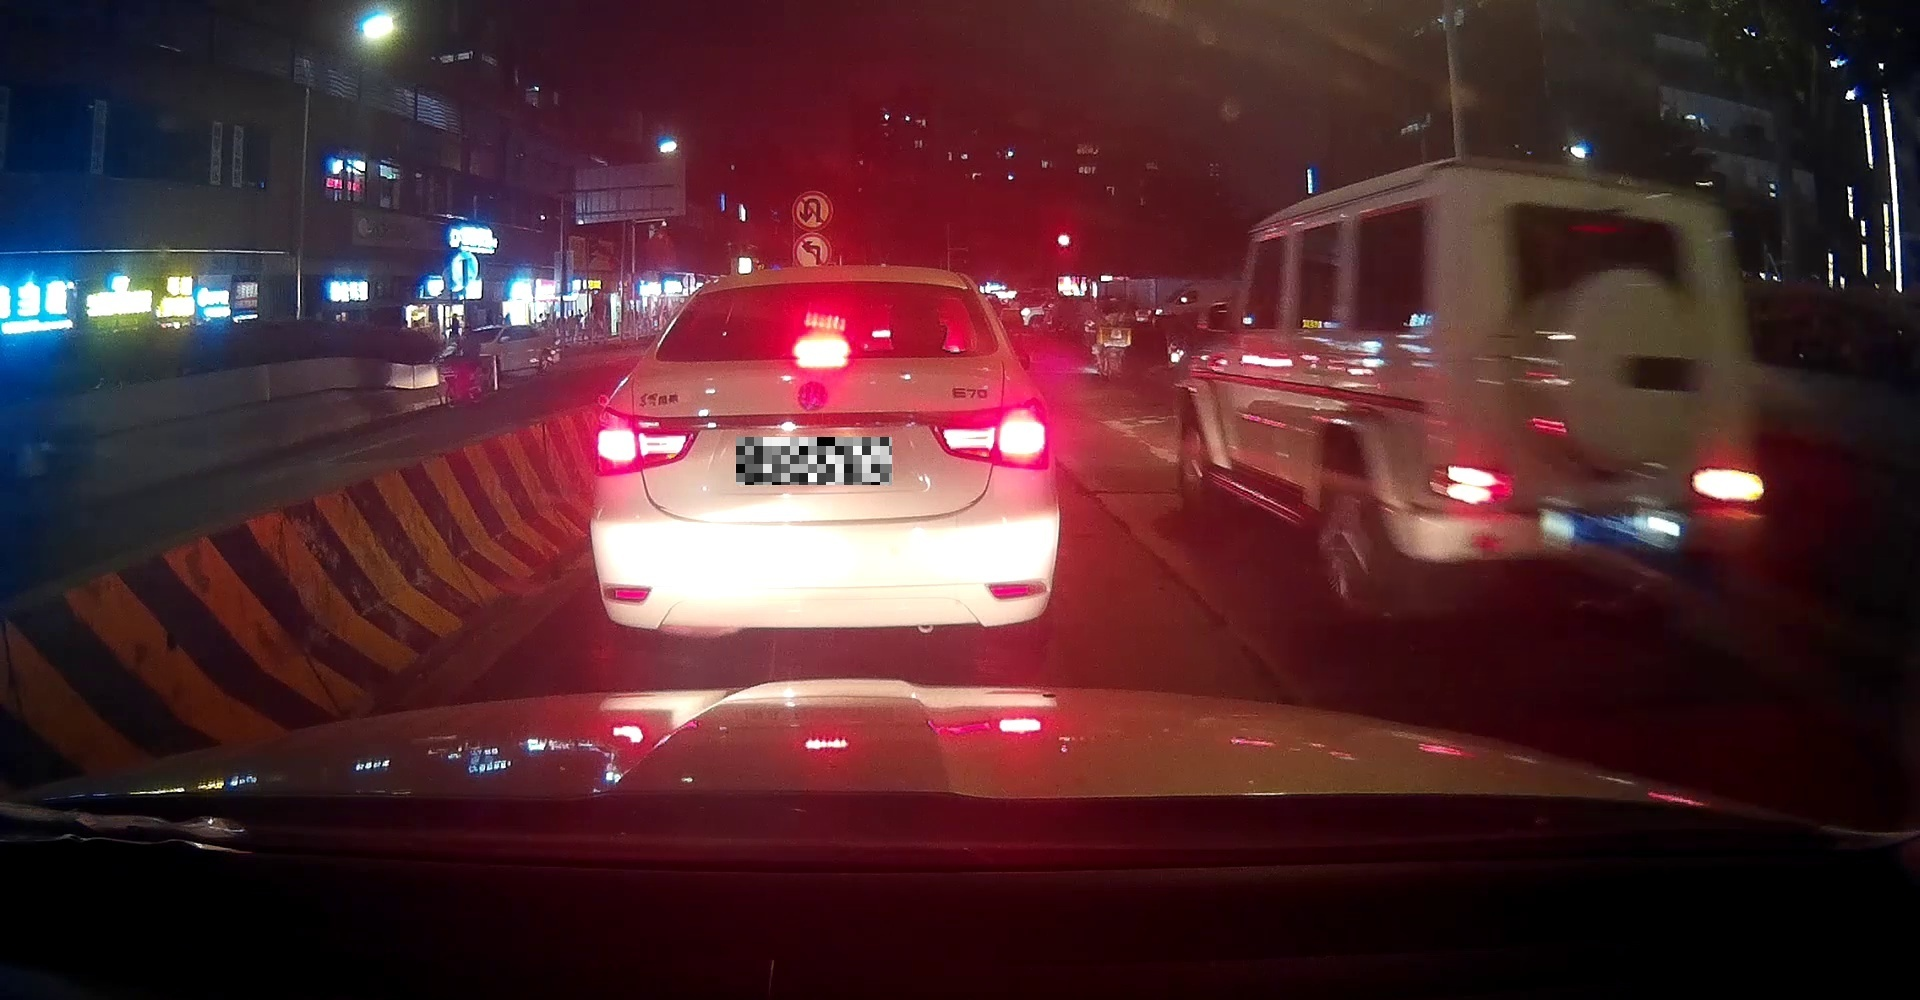L_light: (593, 405, 701, 477), (1429, 464, 1514, 504)
R_light: (926, 396, 1051, 470), (1691, 468, 1764, 503)
T_light: (792, 339, 851, 359), (1577, 209, 1625, 220)
night-brake: (590, 263, 1060, 640)
night-no: (1426, 155, 1766, 615)
plate_1: (737, 437, 891, 485)
